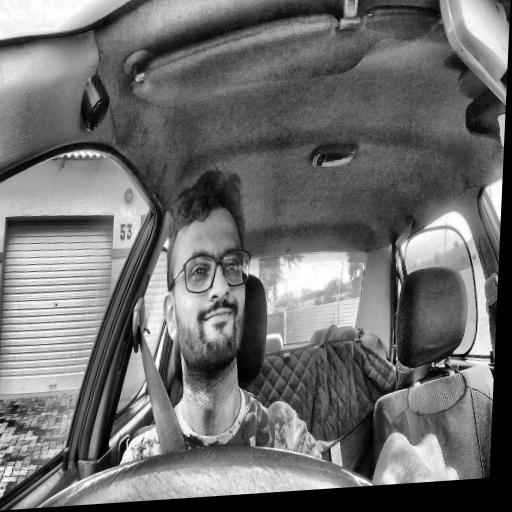awake: (158, 165, 257, 388)
